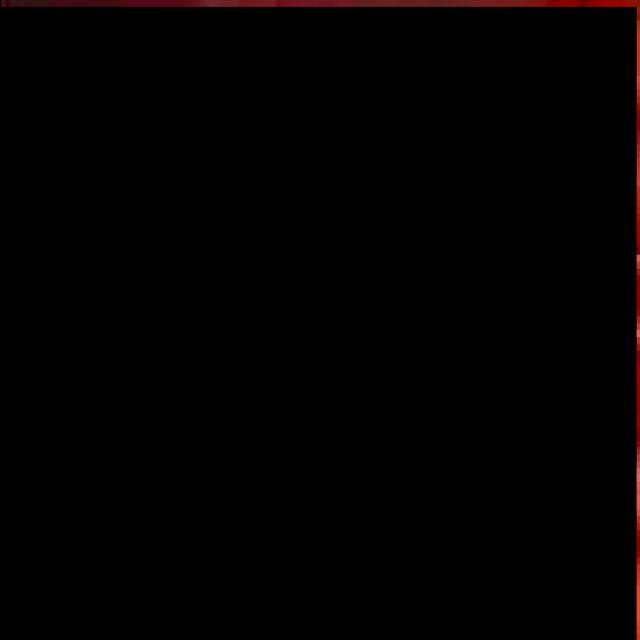fire: (0, 7, 636, 640)
